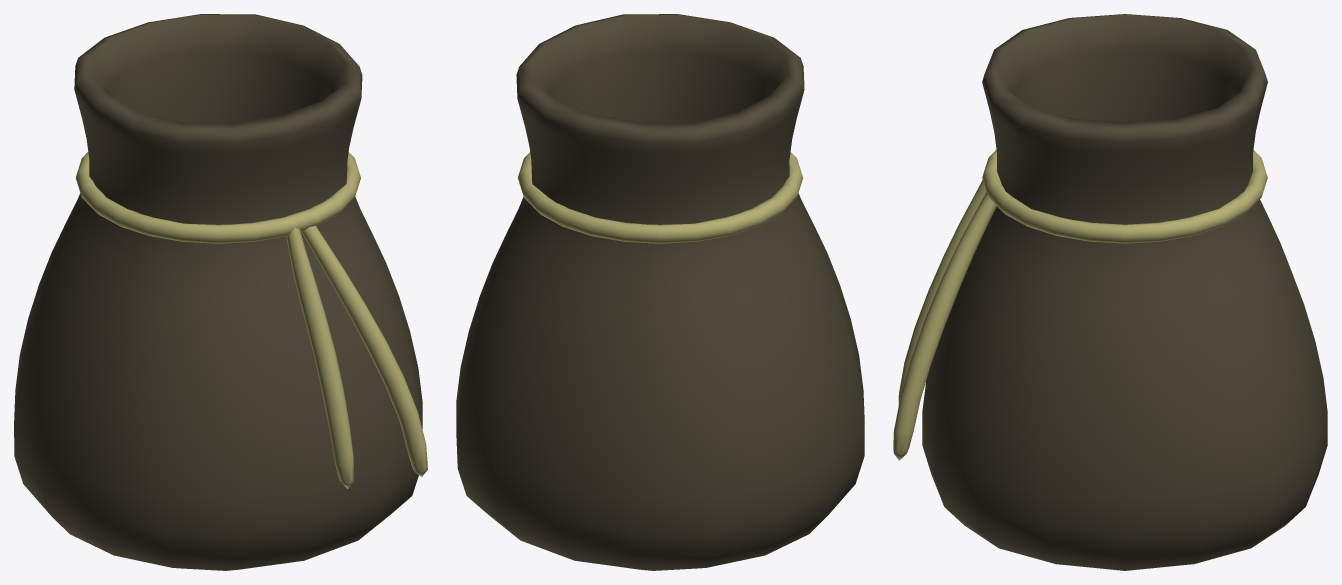
File: CoinBagNoToken.fbx
The picture shows the model from 3 angles, left to right: view 1: azimuth 30°, elevation 25°; view 2: azimuth 150°, elevation 25°; view 3: azimuth 270°, elevation 25°; orthographic projection.
Visible parts, largest first — view 1: CoinBag; view 2: CoinBag; view 3: CoinBag.
Part boxes in pixels (x1=…): CoinBag: x1=14, y1=14, x2=427, y2=570; CoinBag: x1=456, y1=14, x2=864, y2=570; CoinBag: x1=893, y1=14, x2=1327, y2=570.
Size of the model in its own units: 38.98 by 48.76 by 41.77.
